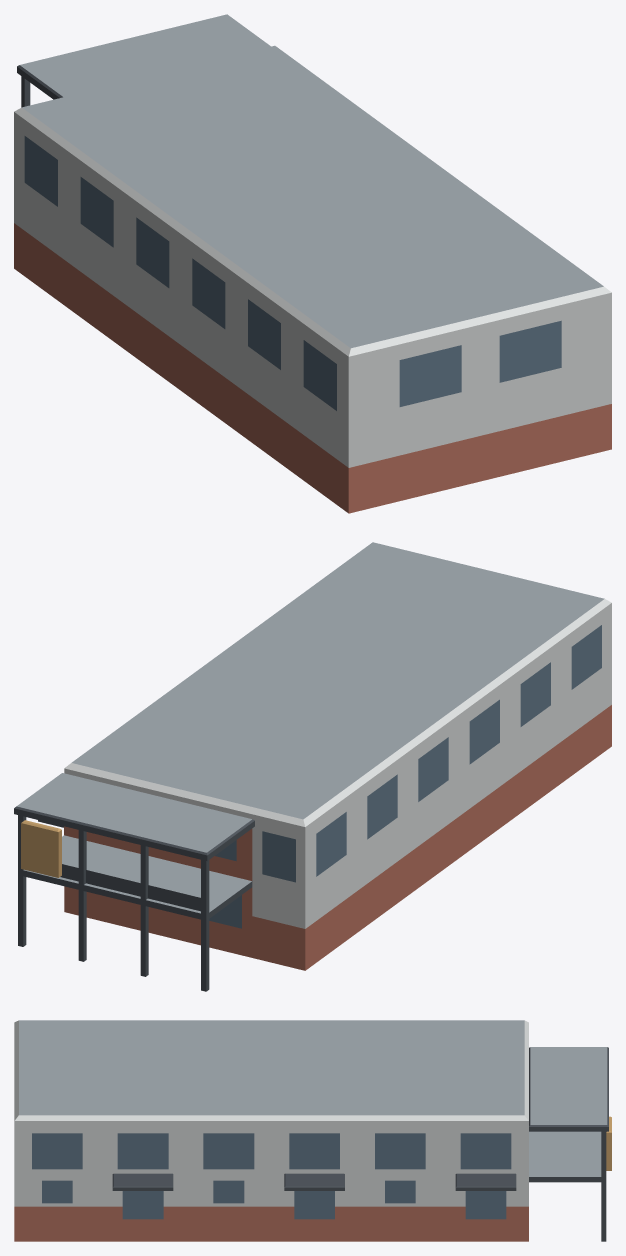
File: clt-trolley-barn.glb
The picture shows the model from 3 angles, top to bottom: view 1: azimuth 30°, elevation 25°; view 2: azimuth 150°, elevation 25°; view 3: azimuth 270°, elevation 25°; orthographic projection. The views are drawn at different scales.
Visible parts, largest first — view 1: Trolley Barn; view 2: Trolley Barn; view 3: Trolley Barn.
Part boxes in pixels (x1,y1,x2,y2): Trolley Barn: [14, 14, 611, 513]; Trolley Barn: [14, 542, 611, 991]; Trolley Barn: [14, 1020, 611, 1241].
Bounding box in the file's own units: 21.34 × 11 × 47.89.
